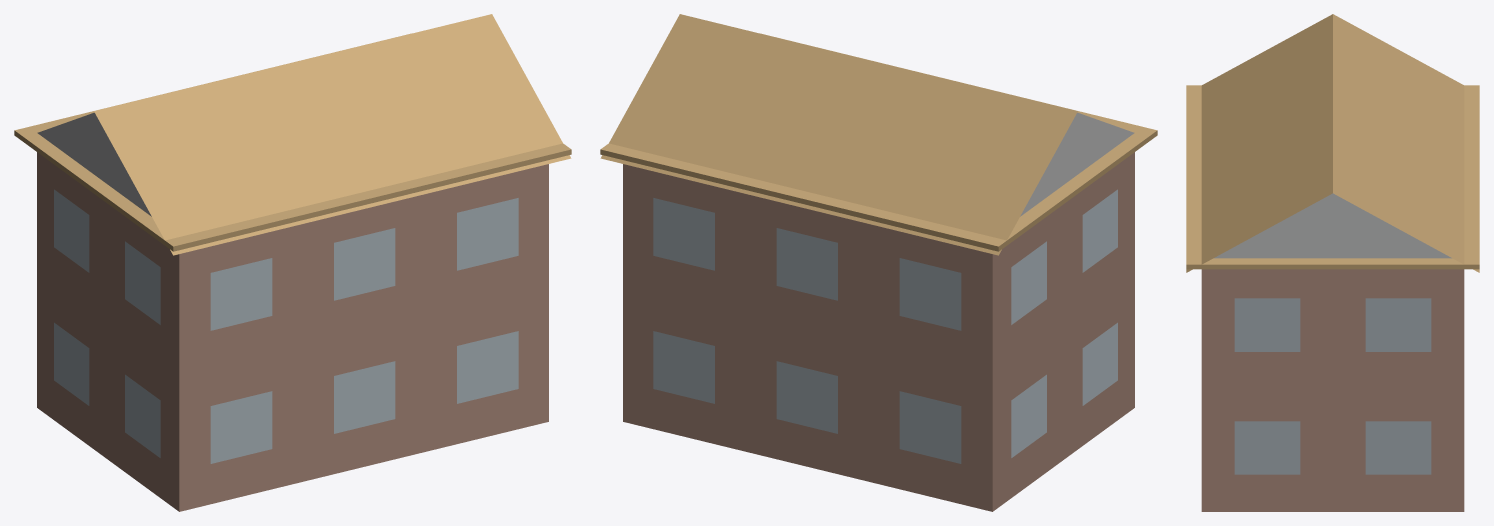
The model's file is 10_traditional_houses-04.glb.
3 views of the same model, side by side, from view 1: azimuth 30°, elevation 25°; view 2: azimuth 150°, elevation 25°; view 3: azimuth 270°, elevation 25° (orthographic). The views are drawn at different scales.
Size of the model in its own units: 9.7 by 8.2 by 6.7.
